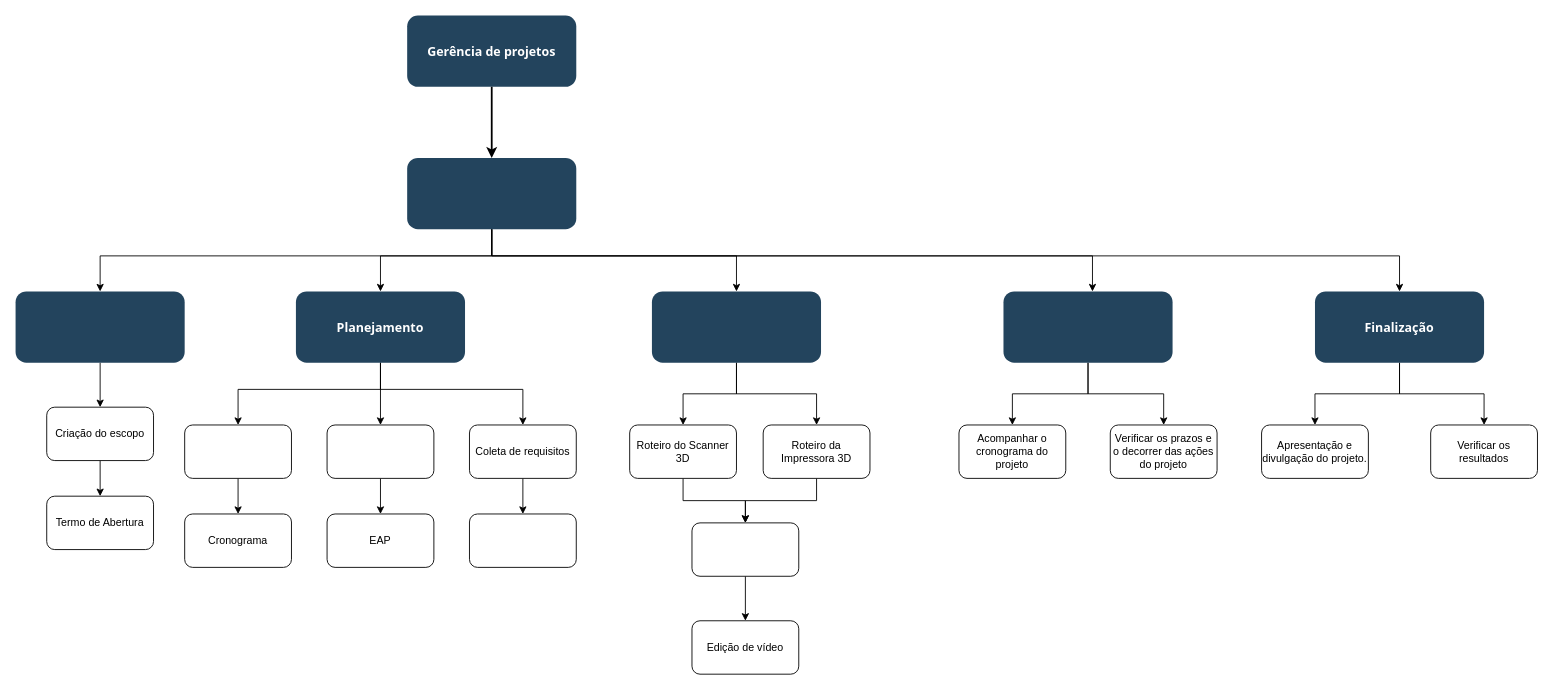
This 1553x690 diagram has some shape labels left out. The centre of each missing label's shape, as x and y in pixels:
Análise dos riscos: point 380,451
Escopo de projeto: point 491,193
Execução: point 736,326
Gravação de vídeo: point 745,549
Iniciação: point 99,326
Monitoramento e Controle: point 1087,326
Plano de gerenciamento de projeto: point 522,540
Revisar o escopo do projeto: point 237,451
